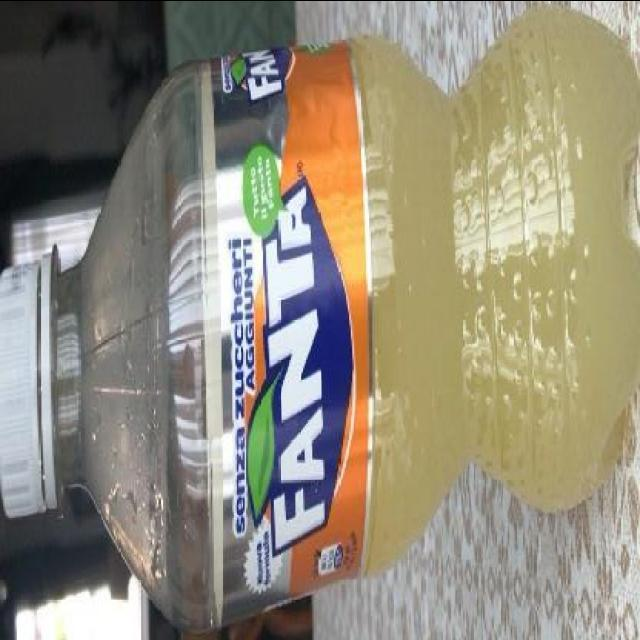Fanta: (2, 2, 640, 630)
